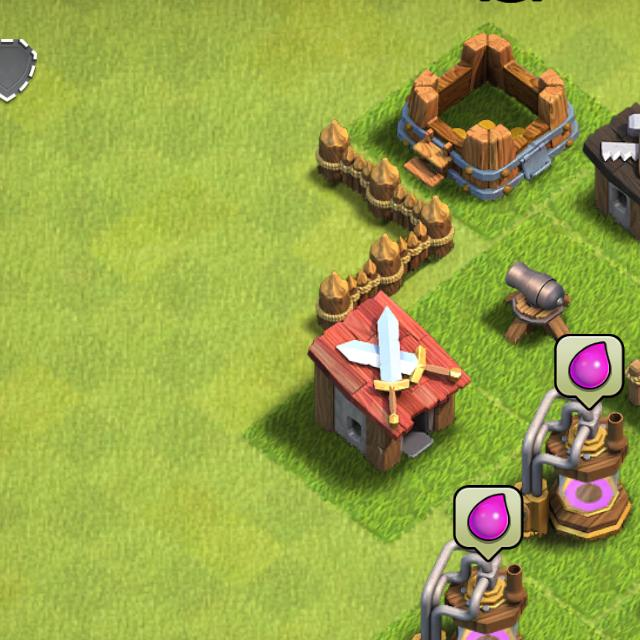Elixir: (454, 484, 525, 560), (554, 333, 622, 408)
